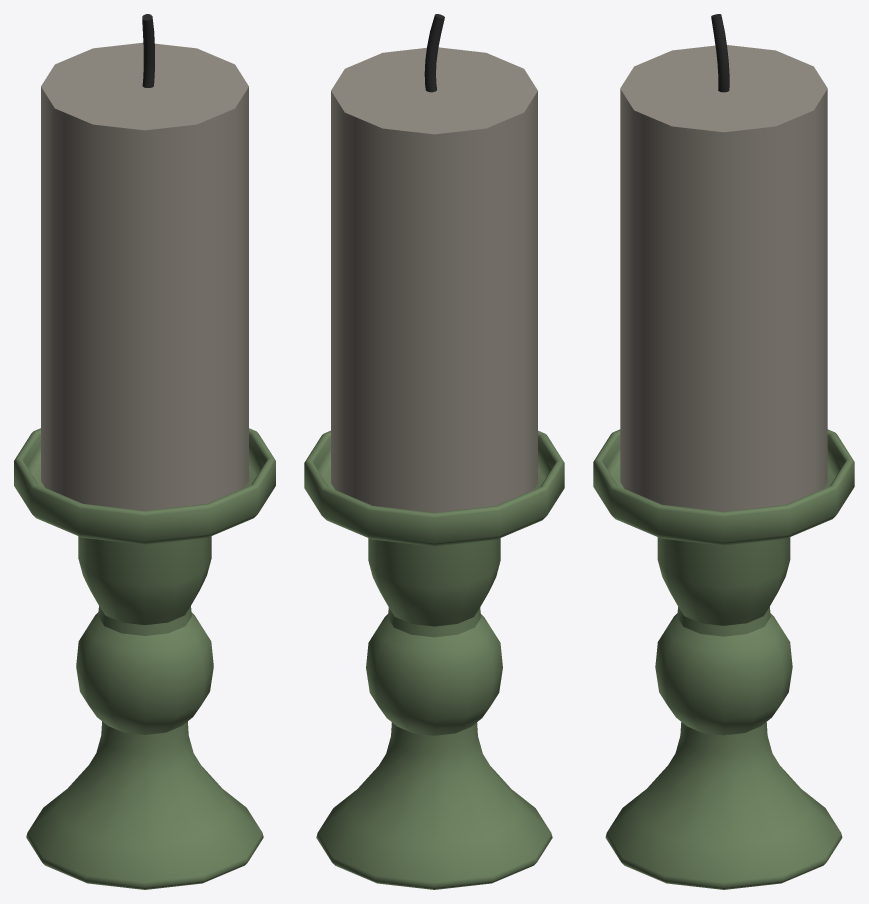
File: candle1b.fbx
3 renders of one model, left to right at view 1: azimuth 30°, elevation 25°; view 2: azimuth 150°, elevation 25°; view 3: azimuth 270°, elevation 25°, orthographic.
Parts seen in each view (by area): view 1: sotajn1.004; view 2: sotajn1.004; view 3: sotajn1.004.
Part boxes in pixels (x1,y1,x2,y2): sotajn1.004: (14, 14, 275, 889); sotajn1.004: (304, 14, 564, 889); sotajn1.004: (593, 14, 854, 889).
Bounding box in the file's own units: 7.55 × 26.38 × 7.55.
